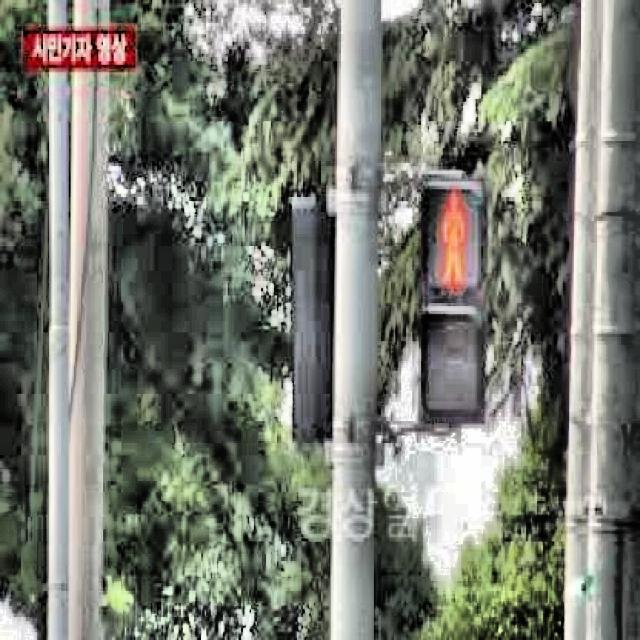semaforo pedestre: (332, 123, 548, 477)
